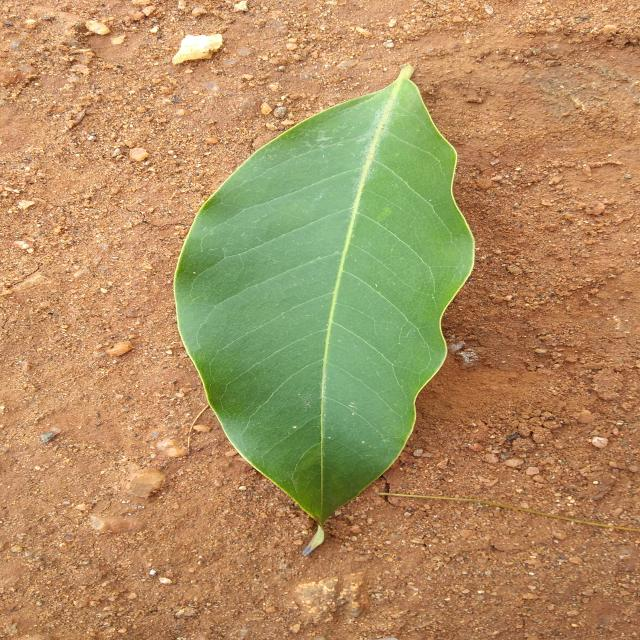sampige: (176, 65, 473, 526)
